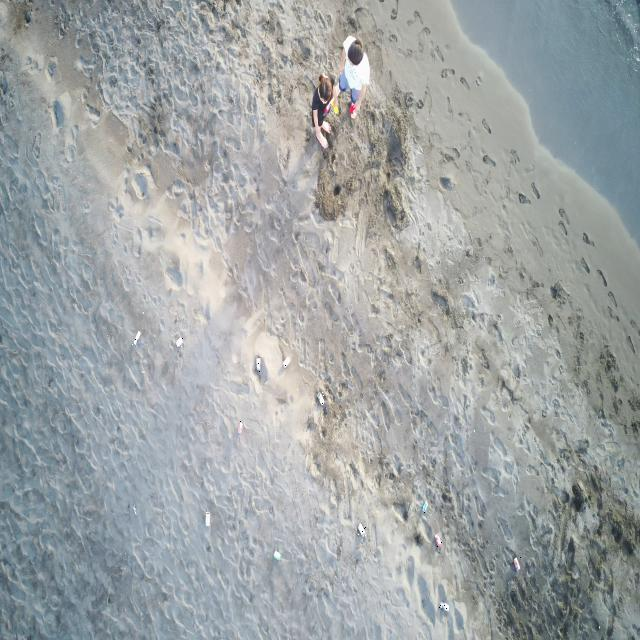Garbage: (512, 556, 520, 571), (435, 533, 443, 547), (316, 392, 324, 406), (332, 99, 339, 114), (132, 331, 140, 344), (356, 523, 364, 536), (255, 355, 260, 373), (281, 356, 289, 367), (236, 420, 243, 432), (176, 336, 183, 347), (420, 501, 427, 512), (204, 511, 209, 526), (272, 551, 280, 560), (439, 602, 447, 611), (131, 504, 135, 513)
